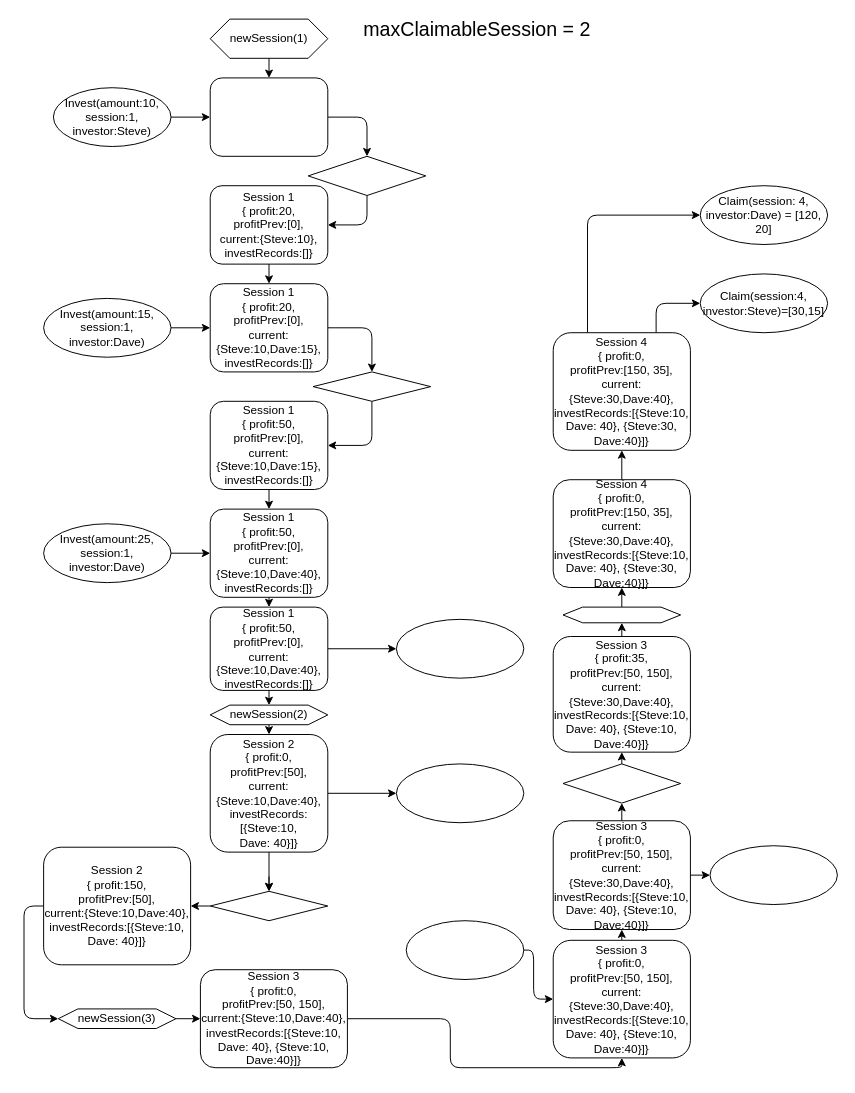
The diagram is 855 pixels wide and 1093 high, and some of its shapes have lost their labels. Here are the shapes that lost their labels. From the top down, the centre of each, then its label:
(x=268, y=116): Session 1 { profit:0, profitPrev:[0], current:{Steve:10}, investRecords:[]}
(x=366, y=175): addProfit(20)
(x=371, y=386): addProfit(30)
(x=621, y=614): newSession(4)
(x=459, y=648): Claim(session:1, investor:Dave) = 0
(x=459, y=793): Claim(session: 2, investor:Dave) = 40
(x=621, y=783): addProfit(35)
(x=773, y=875): Claim(session:3, investor:Steve)= [10, 30]
(x=268, y=905): addProfit(150)
(x=464, y=950): Invest(amount:20, session:3, investor:Steve)
